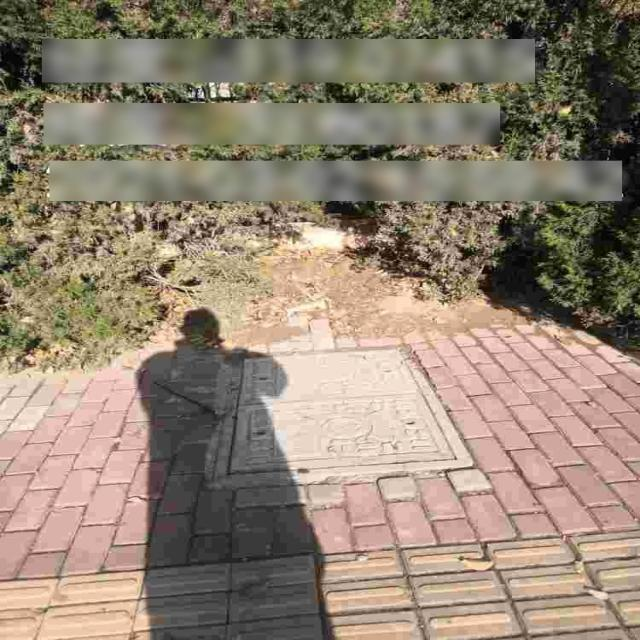Good: (213, 336, 484, 489)
